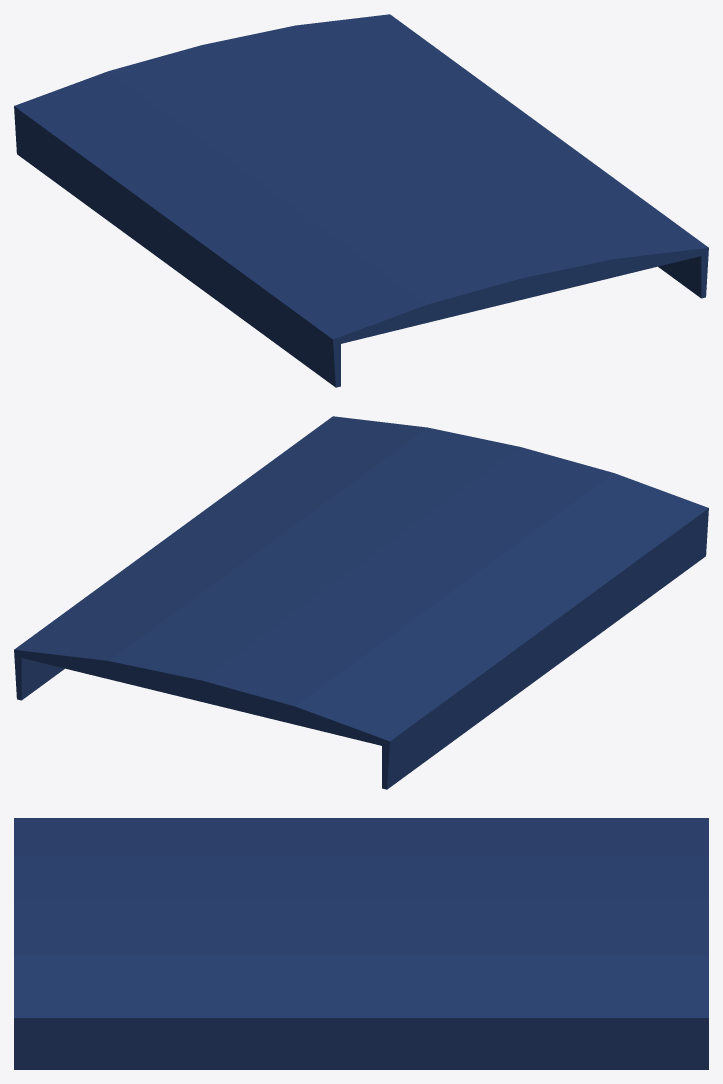
The model's file is Itr_Bed_Single_Blanket_17.FBX.
3 views of the same model, one above another, from view 1: azimuth 30°, elevation 25°; view 2: azimuth 150°, elevation 25°; view 3: azimuth 270°, elevation 25° (orthographic). The views are drawn at different scales.
Parts seen in each view (by area): view 1: Itr_Bed_Single_Blanket_17; view 2: Itr_Bed_Single_Blanket_17; view 3: Itr_Bed_Single_Blanket_17.
Part boxes in pixels (<box>): Itr_Bed_Single_Blanket_17: <box>14,14,708,387</box>; Itr_Bed_Single_Blanket_17: <box>14,416,708,789</box>; Itr_Bed_Single_Blanket_17: <box>14,818,708,1069</box>.
Bounding box in the file's own units: 44.15 × 7.19 × 64.86.
